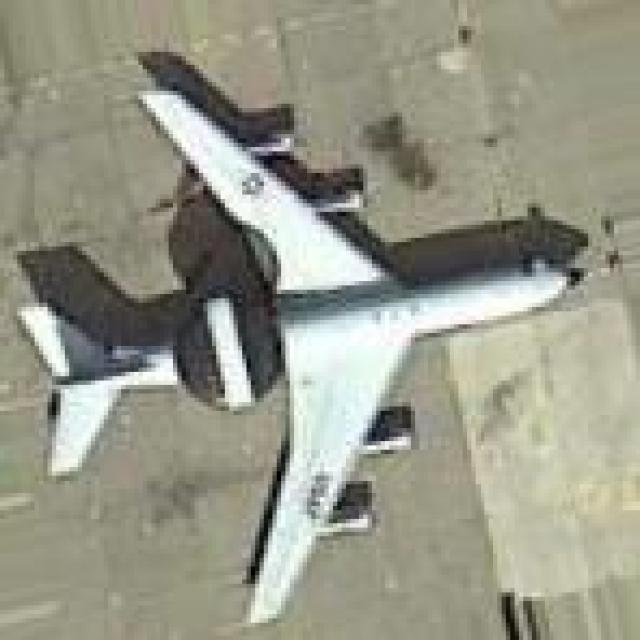E-3_TopDown: (9, 43, 588, 623)
